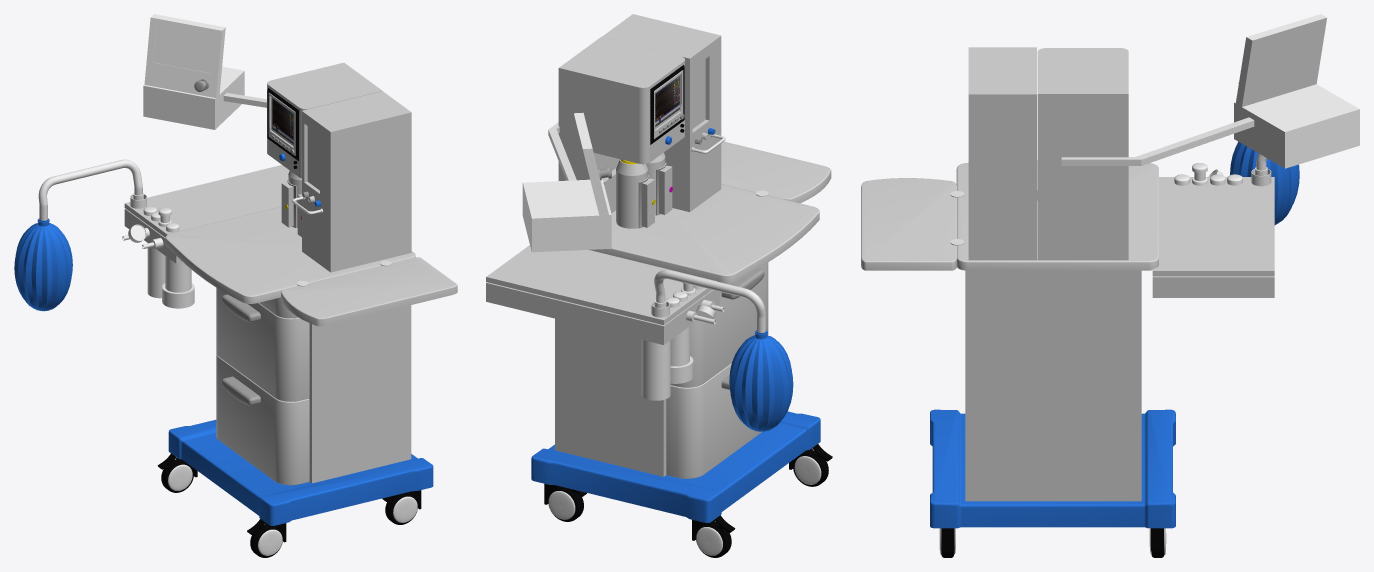
The model's file is anesthesia_machine.glb.
3 views of the same model, side by side, from view 1: azimuth 30°, elevation 25°; view 2: azimuth 150°, elevation 25°; view 3: azimuth 270°, elevation 25° (orthographic). The views are drawn at different scales.
Parts seen in each view (by area): view 1: Line044, Cylinder10, Rectangle2.002, Line043, Cube.012, Cube.008, Sphere, Pipe_01, Cylinder.016, Box024, Cube.009, Cylinder.015; view 2: Cylinder10, Line044, Rectangle2.002, Line043, Cube.008, Cube.012, Sphere, Cylinder.005, Pipe_01, Cylinder.015, Cube.009, Cylinder.016 (+1 smaller); view 3: Line044, Cylinder10, Rectangle2.002, Line043, Cube.008, Cube.012, Sphere.
Boxes of the visible parts, left/top/right/bottom form: Line044: left=216, top=288, right=411, bottom=485; Cylinder10: left=223, top=62, right=411, bottom=272; Rectangle2.002: left=165, top=206, right=457, bottom=326; Line043: left=157, top=419, right=433, bottom=557; Cube.012: left=143, top=14, right=244, bottom=129; Cube.008: left=124, top=165, right=289, bottom=263; Sphere: left=14, top=218, right=72, bottom=311; Pipe_01: left=38, top=159, right=146, bottom=220; Cylinder.016: left=162, top=256, right=194, bottom=308; Box024: left=221, top=294, right=260, bottom=405; Cube.009: left=281, top=179, right=301, bottom=236; Cylinder.015: left=147, top=247, right=165, bottom=298; Cylinder10: left=548, top=14, right=725, bottom=213; Line044: left=555, top=262, right=768, bottom=478; Rectangle2.002: left=589, top=141, right=831, bottom=283; Line043: left=531, top=411, right=832, bottom=557; Cube.008: left=486, top=245, right=720, bottom=344; Cube.012: left=522, top=112, right=611, bottom=252; Sphere: left=729, top=330, right=793, bottom=431; Cylinder.005: left=616, top=152, right=665, bottom=228; Pipe_01: left=651, top=270, right=765, bottom=332; Cylinder.015: left=641, top=340, right=670, bottom=400; Cube.009: left=638, top=163, right=672, bottom=228; Cylinder.016: left=670, top=326, right=693, bottom=383; Line044: left=965, top=270, right=1141, bottom=501; Cylinder10: left=968, top=47, right=1254, bottom=260; Rectangle2.002: left=861, top=160, right=1158, bottom=270; Line043: left=930, top=409, right=1175, bottom=557; Cube.008: left=1152, top=177, right=1274, bottom=297; Cube.012: left=1234, top=14, right=1359, bottom=168; Sphere: left=1230, top=141, right=1299, bottom=225.
Size of the model in its own units: 1.51 by 2.16 by 2.
9 materials, 1 textured.
